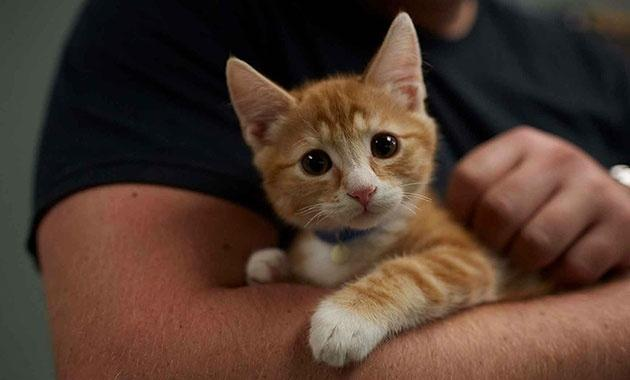Cat: (224, 8, 441, 237)
